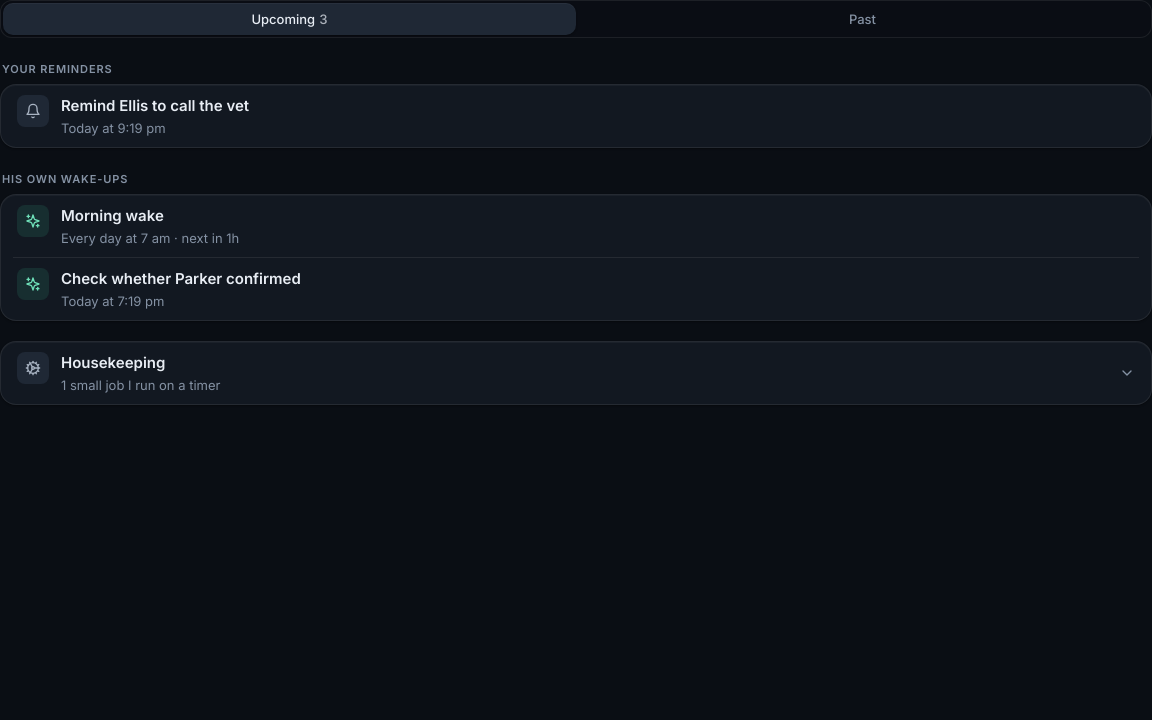
it: EventsBrowser › opens a reminder's details with a way back to its thread
The width and height of the screenshot is (1152, 720).
What coordinates should you click on to do the following:
click the button "Remind Ellis to call the vet"
I would click on:
 (33, 111)
Its box is top-left (13, 85), bottom-right (1139, 147).
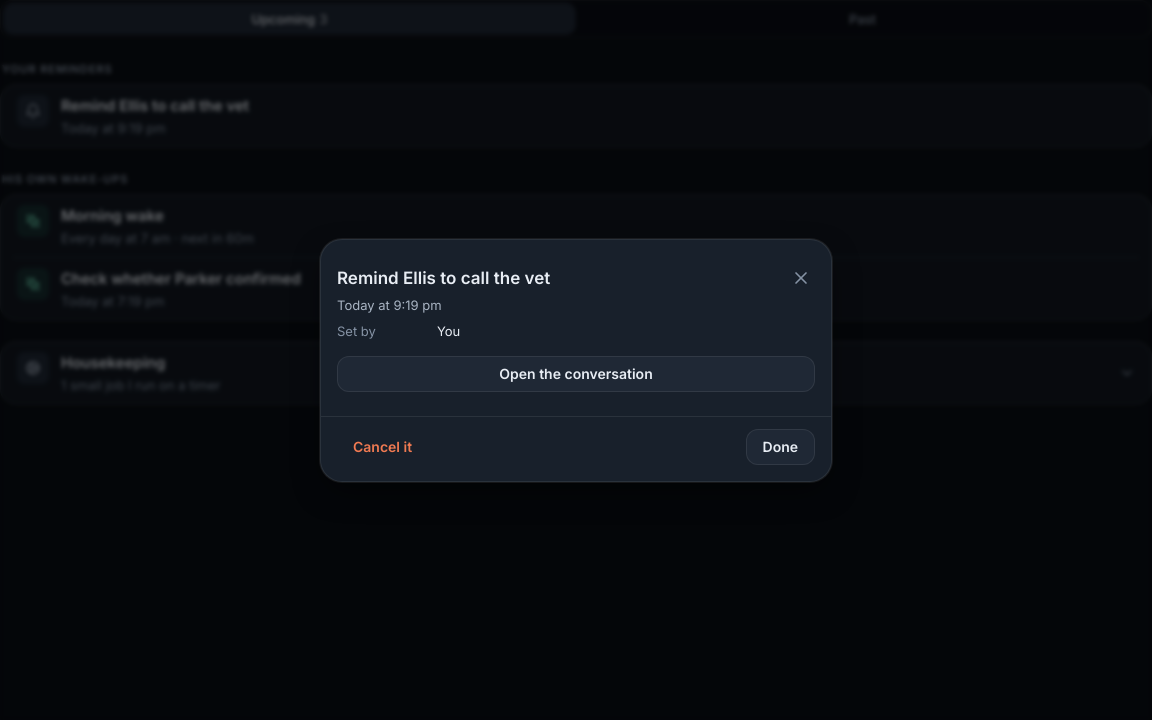
Expected: the button "Cancel it" is shown, top-left (337, 428), bottom-right (428, 464)
